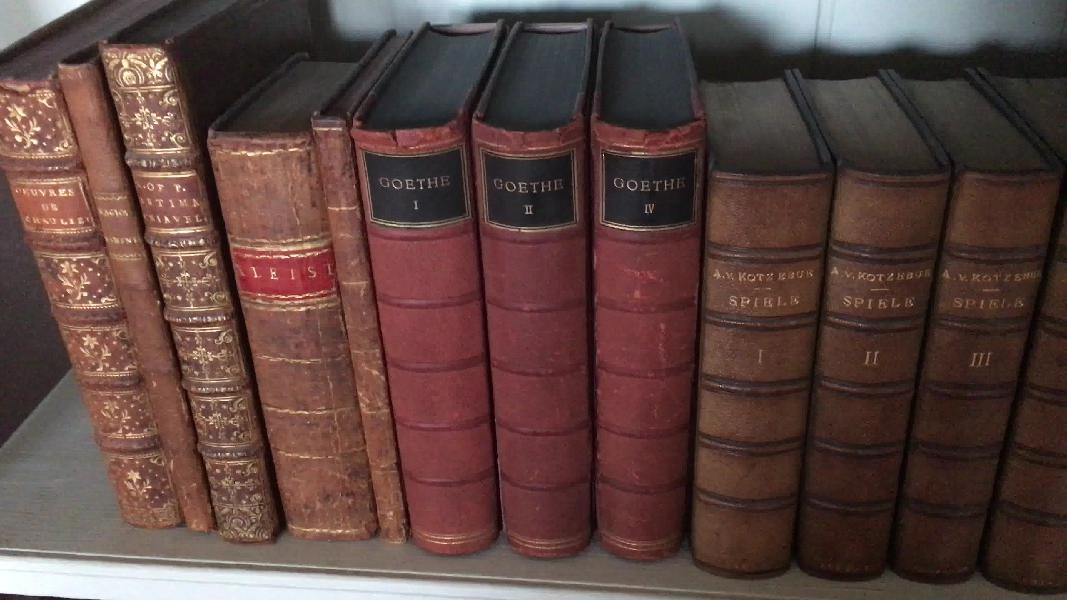Aa6-10: (301, 100, 408, 541)
Aa6-11_13: (346, 120, 729, 573)
Aa6-14_17: (691, 168, 1067, 600)
Aa6-6: (2, 62, 180, 532)
Aa6-7: (58, 62, 205, 543)
Aa6-8: (101, 40, 283, 541)
Aa6-9: (199, 121, 376, 545)
